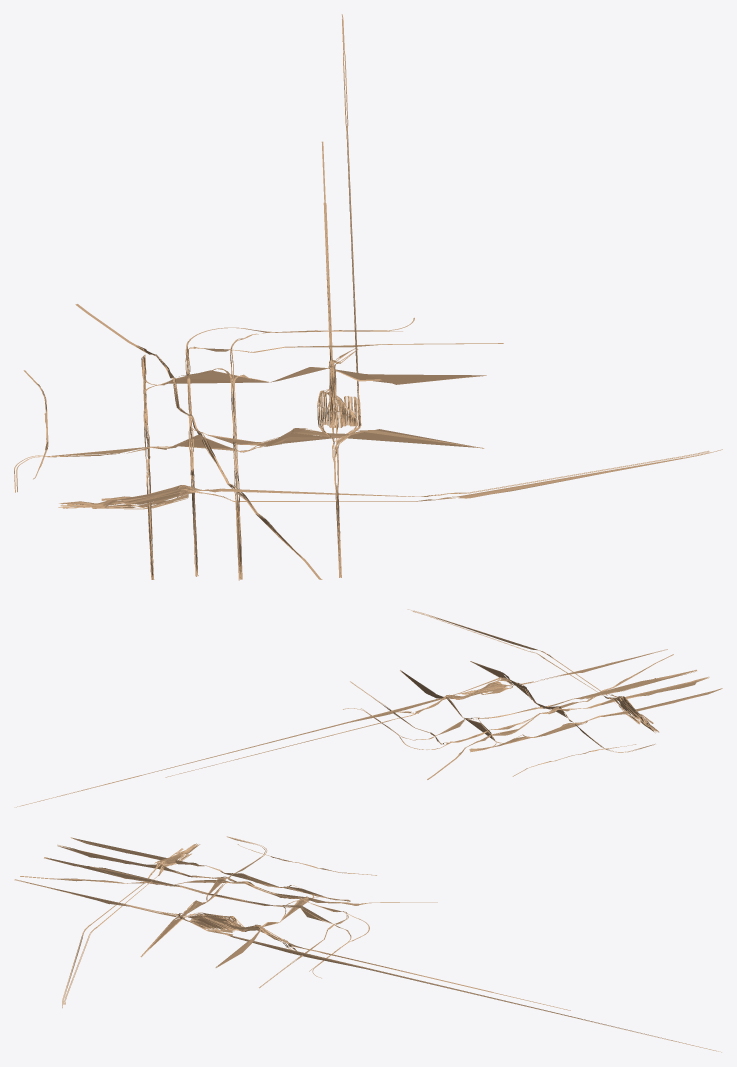
Rendered from rail.glb.
3 renders of one model, top to bottom at view 1: azimuth 30°, elevation 25°; view 2: azimuth 150°, elevation 25°; view 3: azimuth 270°, elevation 25°, orthographic. The views are drawn at different scales.
Visible parts, largest first — view 1: rail; view 2: rail; view 3: rail.
Part boxes in pixels (x1,y1,x2,y2): rail: (14,14,722,580); rail: (14,609,722,807); rail: (14,836,721,1052).
Bounding box in the file's own units: 5250 × 169 × 7174.
